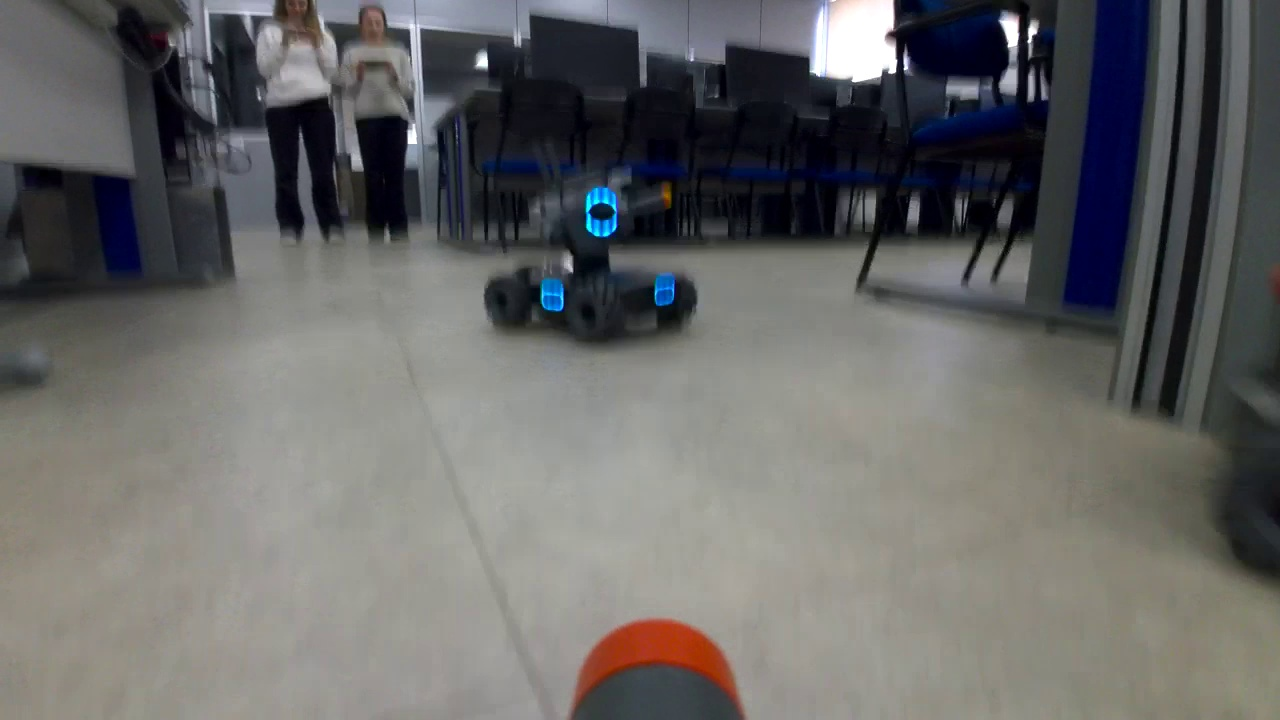robot: (483, 170, 701, 350)
